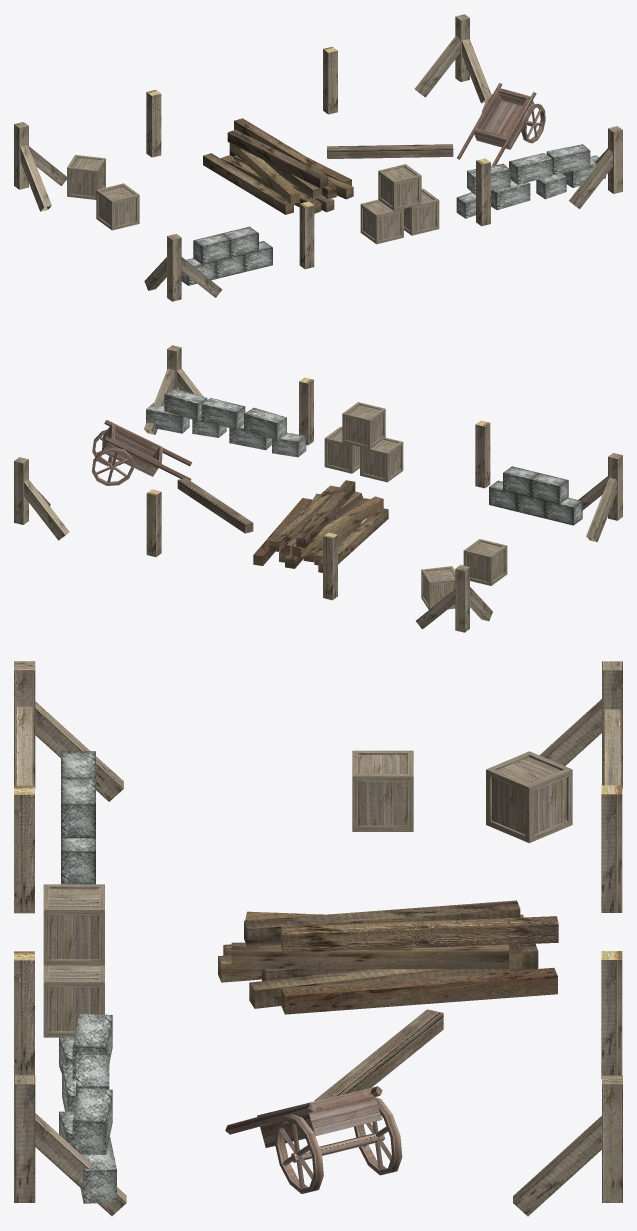
The model's file is fndn_5x3.glb.
3 views of the same model, one above another, from view 1: azimuth 30°, elevation 25°; view 2: azimuth 150°, elevation 25°; view 3: azimuth 270°, elevation 25° (orthographic). The views are drawn at different scales.
Parts seen in each view (by area): view 1: fndn_5x3_part23, fndn_5x3_part15, fndn_5x3_part16, fndn_5x3_part1, fndn_5x3_part2, fndn_5x3_part3, fndn_5x3_part4, fndn_5x3_part20, fndn_5x3_part18, fndn_5x3_part24, fndn_5x3_part22, fndn_5x3_part17 (+10 smaller); view 2: fndn_5x3_part23, fndn_5x3_part15, fndn_5x3_part16, fndn_5x3_part3, fndn_5x3_part2, fndn_5x3_part1, fndn_5x3_part20, fndn_5x3_part18, fndn_5x3_part22, fndn_5x3_part4, fndn_5x3_part24, fndn_5x3_part21 (+10 smaller); view 3: fndn_5x3_part23, fndn_5x3_part16, fndn_5x3_part15, fndn_5x3_part17, fndn_5x3_part1, fndn_5x3_part18, fndn_5x3_part20, fndn_5x3_part4, fndn_5x3_part3, fndn_5x3_part2, fndn_5x3_part21, fndn_5x3_part24 (+7 smaller).
Part boxes in pixels (left/top/right/bottom): fndn_5x3_part23: left=203, top=118, right=353, bottom=214; fndn_5x3_part15: left=456, top=144, right=605, bottom=218; fndn_5x3_part16: left=457, top=83, right=545, bottom=165; fndn_5x3_part1: left=414, top=14, right=491, bottom=103; fndn_5x3_part2: left=14, top=122, right=66, bottom=211; fndn_5x3_part3: left=144, top=234, right=222, bottom=301; fndn_5x3_part4: left=569, top=126, right=622, bottom=209; fndn_5x3_part20: left=378, top=164, right=421, bottom=210; fndn_5x3_part18: left=96, top=183, right=139, bottom=230; fndn_5x3_part24: left=327, top=144, right=453, bottom=158; fndn_5x3_part22: left=360, top=199, right=403, bottom=244; fndn_5x3_part17: left=67, top=155, right=105, bottom=199; fndn_5x3_part23: left=253, top=480, right=388, bottom=572; fndn_5x3_part15: left=146, top=388, right=306, bottom=457; fndn_5x3_part16: left=91, top=420, right=191, bottom=485; fndn_5x3_part3: left=578, top=453, right=622, bottom=542; fndn_5x3_part2: left=416, top=565, right=492, bottom=632; fndn_5x3_part1: left=14, top=457, right=69, bottom=540; fndn_5x3_part20: left=342, top=402, right=385, bottom=449; fndn_5x3_part18: left=463, top=539, right=507, bottom=585; fndn_5x3_part22: left=360, top=437, right=403, bottom=482; fndn_5x3_part4: left=144, top=345, right=202, bottom=434; fndn_5x3_part24: left=177, top=478, right=253, bottom=533; fndn_5x3_part21: left=324, top=426, right=359, bottom=473; fndn_5x3_part23: left=218, top=900, right=558, bottom=1014; fndn_5x3_part16: left=225, top=1086, right=402, bottom=1193; fndn_5x3_part15: left=59, top=1013, right=116, bottom=1203; fndn_5x3_part17: left=486, top=751, right=572, bottom=843; fndn_5x3_part1: left=513, top=1075, right=622, bottom=1216; fndn_5x3_part18: left=352, top=750, right=413, bottom=831; fndn_5x3_part20: left=43, top=884, right=104, bottom=965; fndn_5x3_part4: left=14, top=1075, right=126, bottom=1215; fndn_5x3_part3: left=14, top=661, right=123, bottom=801; fndn_5x3_part2: left=539, top=661, right=622, bottom=788; fndn_5x3_part21: left=43, top=965, right=104, bottom=1037; fndn_5x3_part24: left=314, top=1009, right=443, bottom=1101.
Size of the model in its own units: 4.3 by 0.971 by 2.61.
Materials: 5 (5 with a texture image).
